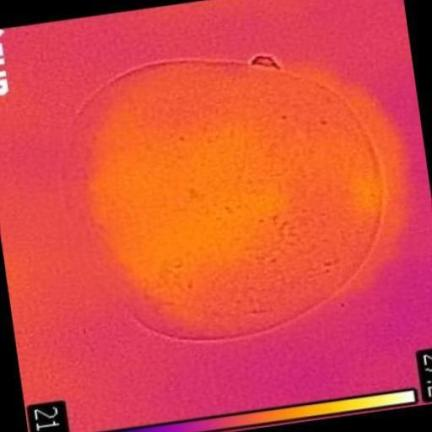mango: (68, 60, 388, 336)
